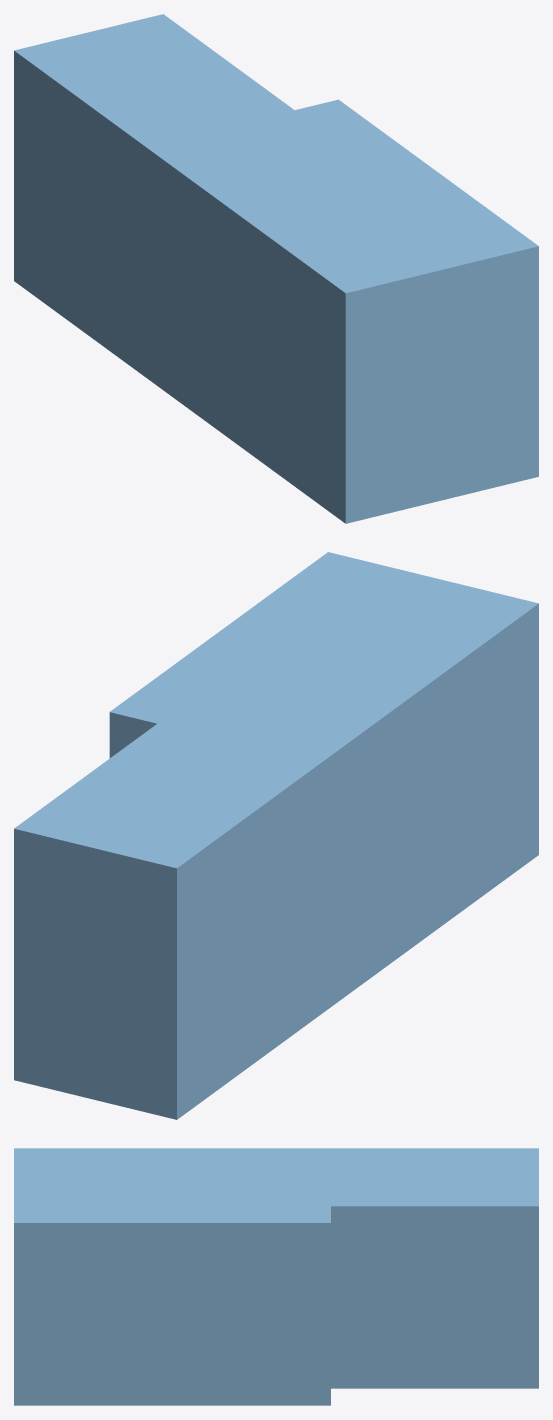
3 renders of one model, top to bottom at view 1: azimuth 30°, elevation 25°; view 2: azimuth 150°, elevation 25°; view 3: azimuth 270°, elevation 25°, orthographic. The views are drawn at different scales.
Visible parts, largest first — view 1: Storey_002, Storey_001, Storey_000; view 2: Storey_002, Storey_001, Storey_000; view 3: Storey_002, Storey_000, Storey_001.
Boxes of the visible parts, bbox=[...] form: Storey_002: bbox=[14, 14, 538, 369]; Storey_001: bbox=[14, 127, 538, 446]; Storey_000: bbox=[14, 204, 538, 523]; Storey_002: bbox=[14, 552, 538, 952]; Storey_001: bbox=[14, 687, 538, 1035]; Storey_000: bbox=[14, 771, 538, 1119]; Storey_002: bbox=[14, 1148, 538, 1283]; Storey_000: bbox=[14, 1327, 538, 1405]; Storey_001: bbox=[14, 1267, 538, 1344].
Size of the model in its own units: 8.42 by 9.6 by 25.04.
